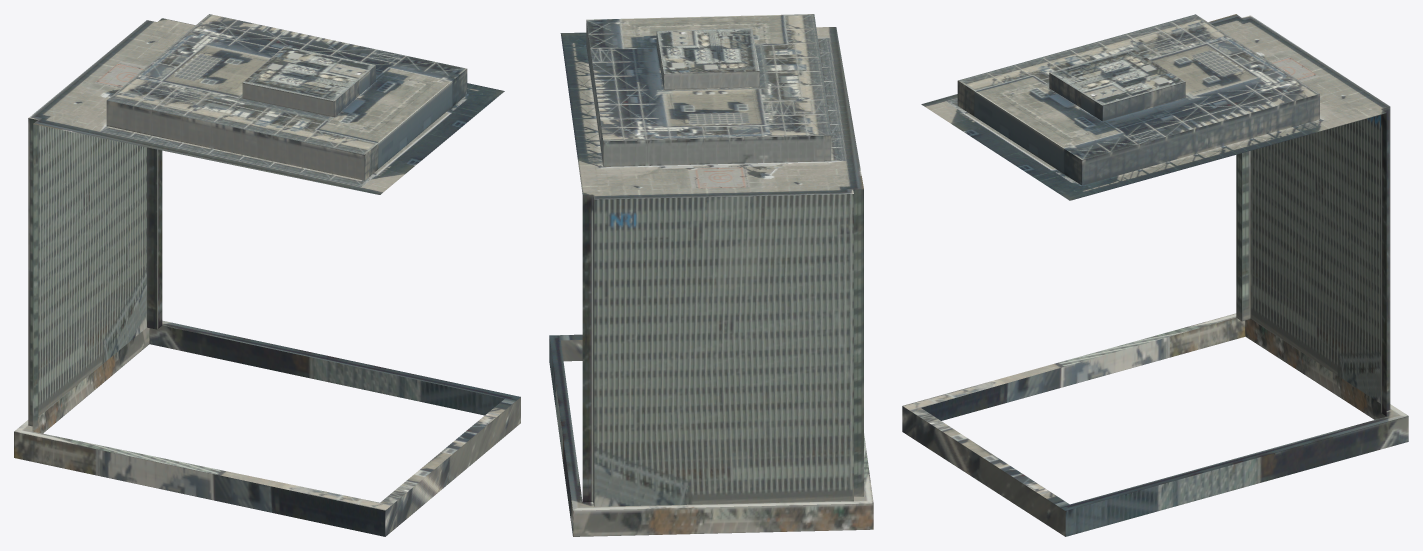
File: unityexport7.obj
The picture shows the model from 3 angles, left to right: view 1: azimuth 30°, elevation 25°; view 2: azimuth 150°, elevation 25°; view 3: azimuth 270°, elevation 25°; orthographic projection.
Parts seen in each view (by area): view 1: Baked Mesh 127; view 2: Baked Mesh 127; view 3: Baked Mesh 127.
Part boxes in pixels (x1,y1,x2,y2): Baked Mesh 127: (14,14,520,536); Baked Mesh 127: (549,14,873,536); Baked Mesh 127: (902,14,1408,536).
Size of the model in its own units: 102 by 88.23 by 109.
